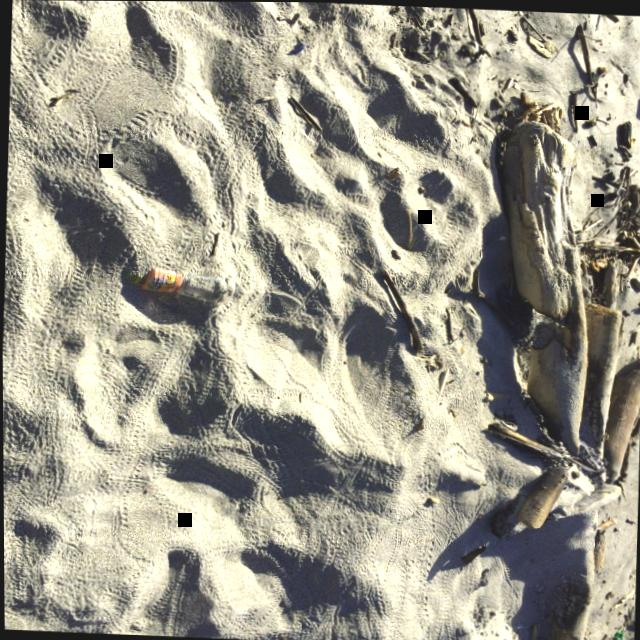Clear plastic bottle: (124, 267, 234, 303)
